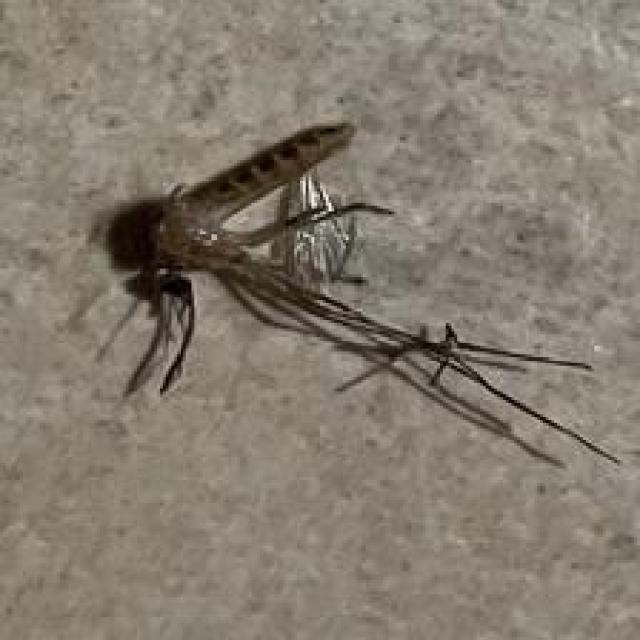Culex: (65, 119, 624, 470)
